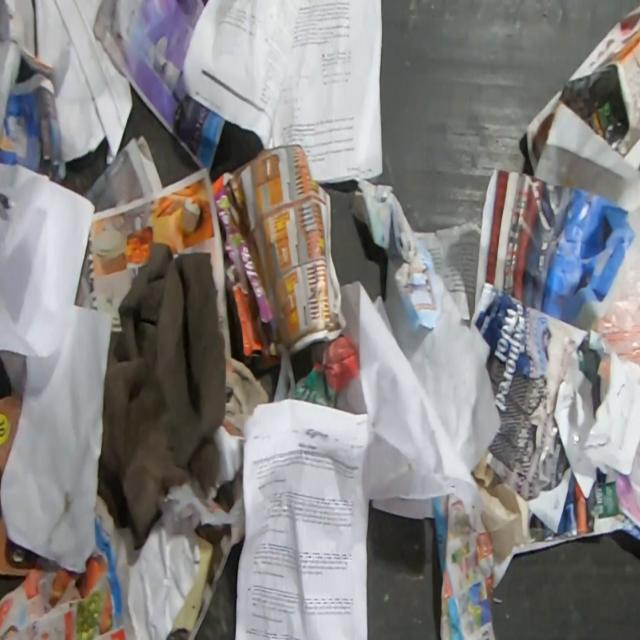cardboard: (350, 177, 442, 333), (209, 169, 278, 372), (295, 336, 360, 404), (0, 505, 34, 576), (0, 390, 23, 484)
soft_plastic: (599, 205, 640, 357)
